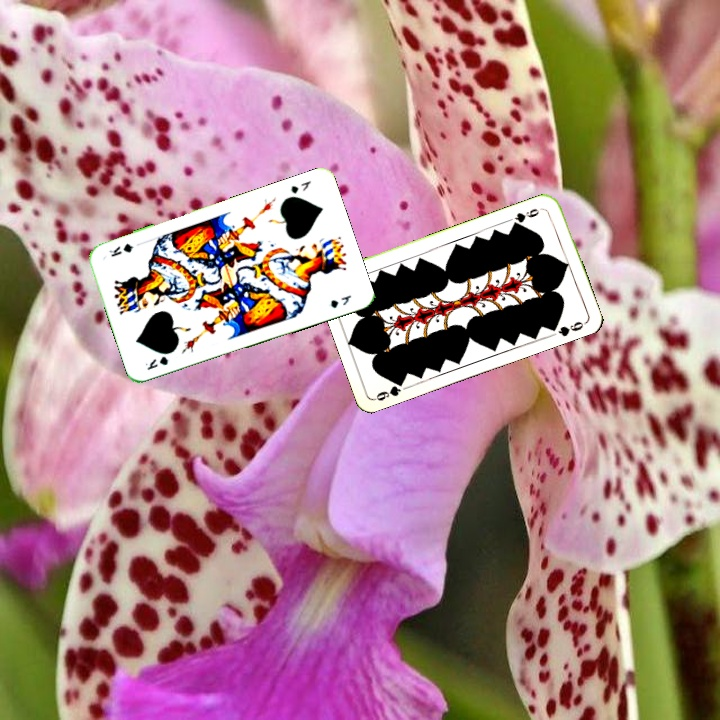G9: (371, 376, 407, 403), (509, 204, 542, 228)
GK: (143, 352, 171, 373), (287, 176, 314, 196)
